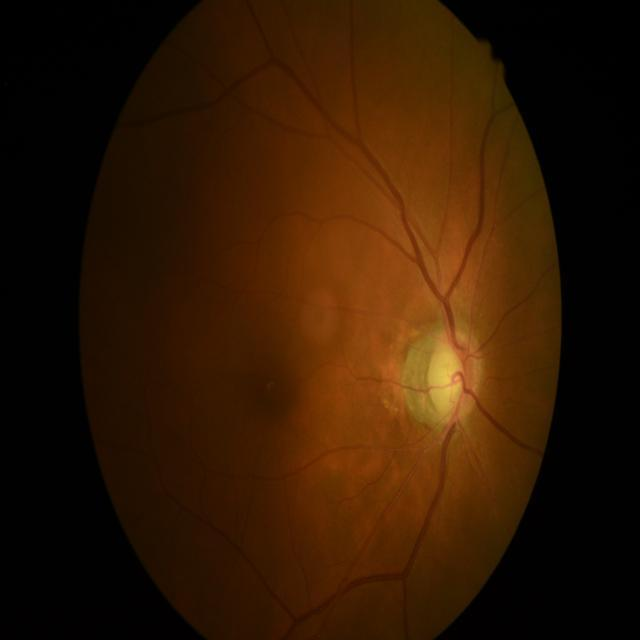cup: (434, 346, 464, 417)
disk: (427, 331, 483, 429)
